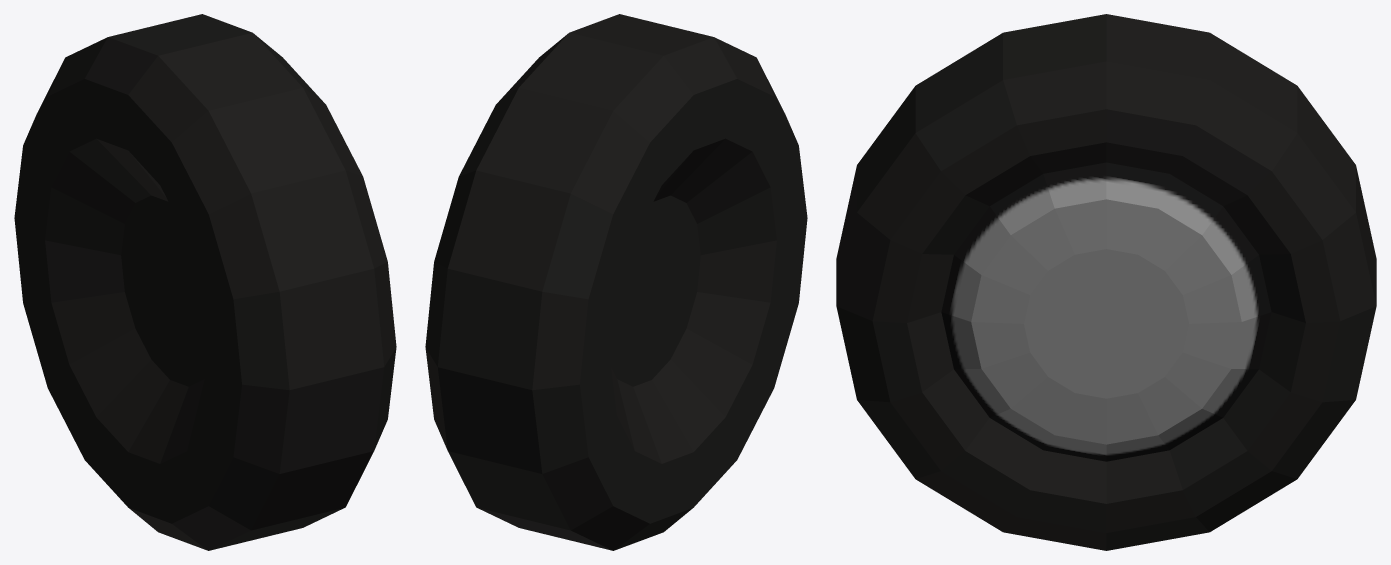
Rendered from car_wheel.obj.
3 renders of one model, left to right at view 1: azimuth 30°, elevation 25°; view 2: azimuth 150°, elevation 25°; view 3: azimuth 270°, elevation 25°, orthographic. The views are drawn at different scales.
Parts seen in each view (by area): view 1: car_wheel_Cylinder.003; view 2: car_wheel_Cylinder.003; view 3: car_wheel_Cylinder.003.
Part boxes in pixels (x1,y1,x2,y2): car_wheel_Cylinder.003: (14,14,396,550); car_wheel_Cylinder.003: (425,14,807,550); car_wheel_Cylinder.003: (836,14,1376,550).
Bounding box in the file's own units: 0.3571 × 1.02 × 1.02.
Materials: 1 (1 with a texture image).
